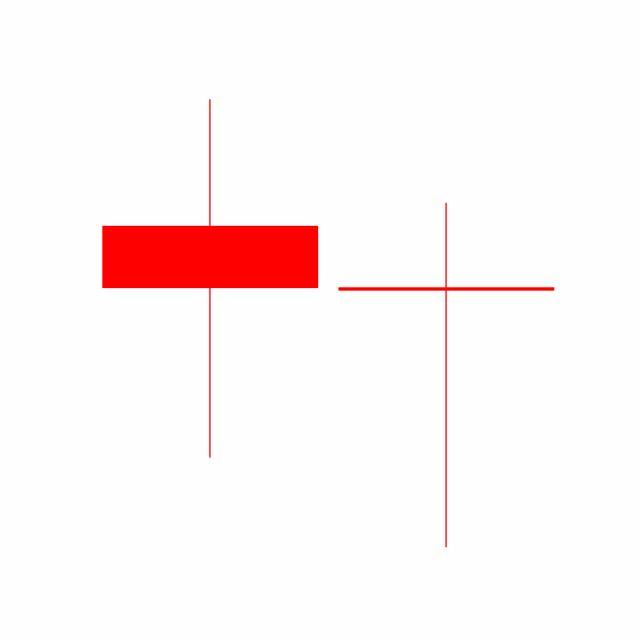Spinning Top: (328, 200, 566, 552)
